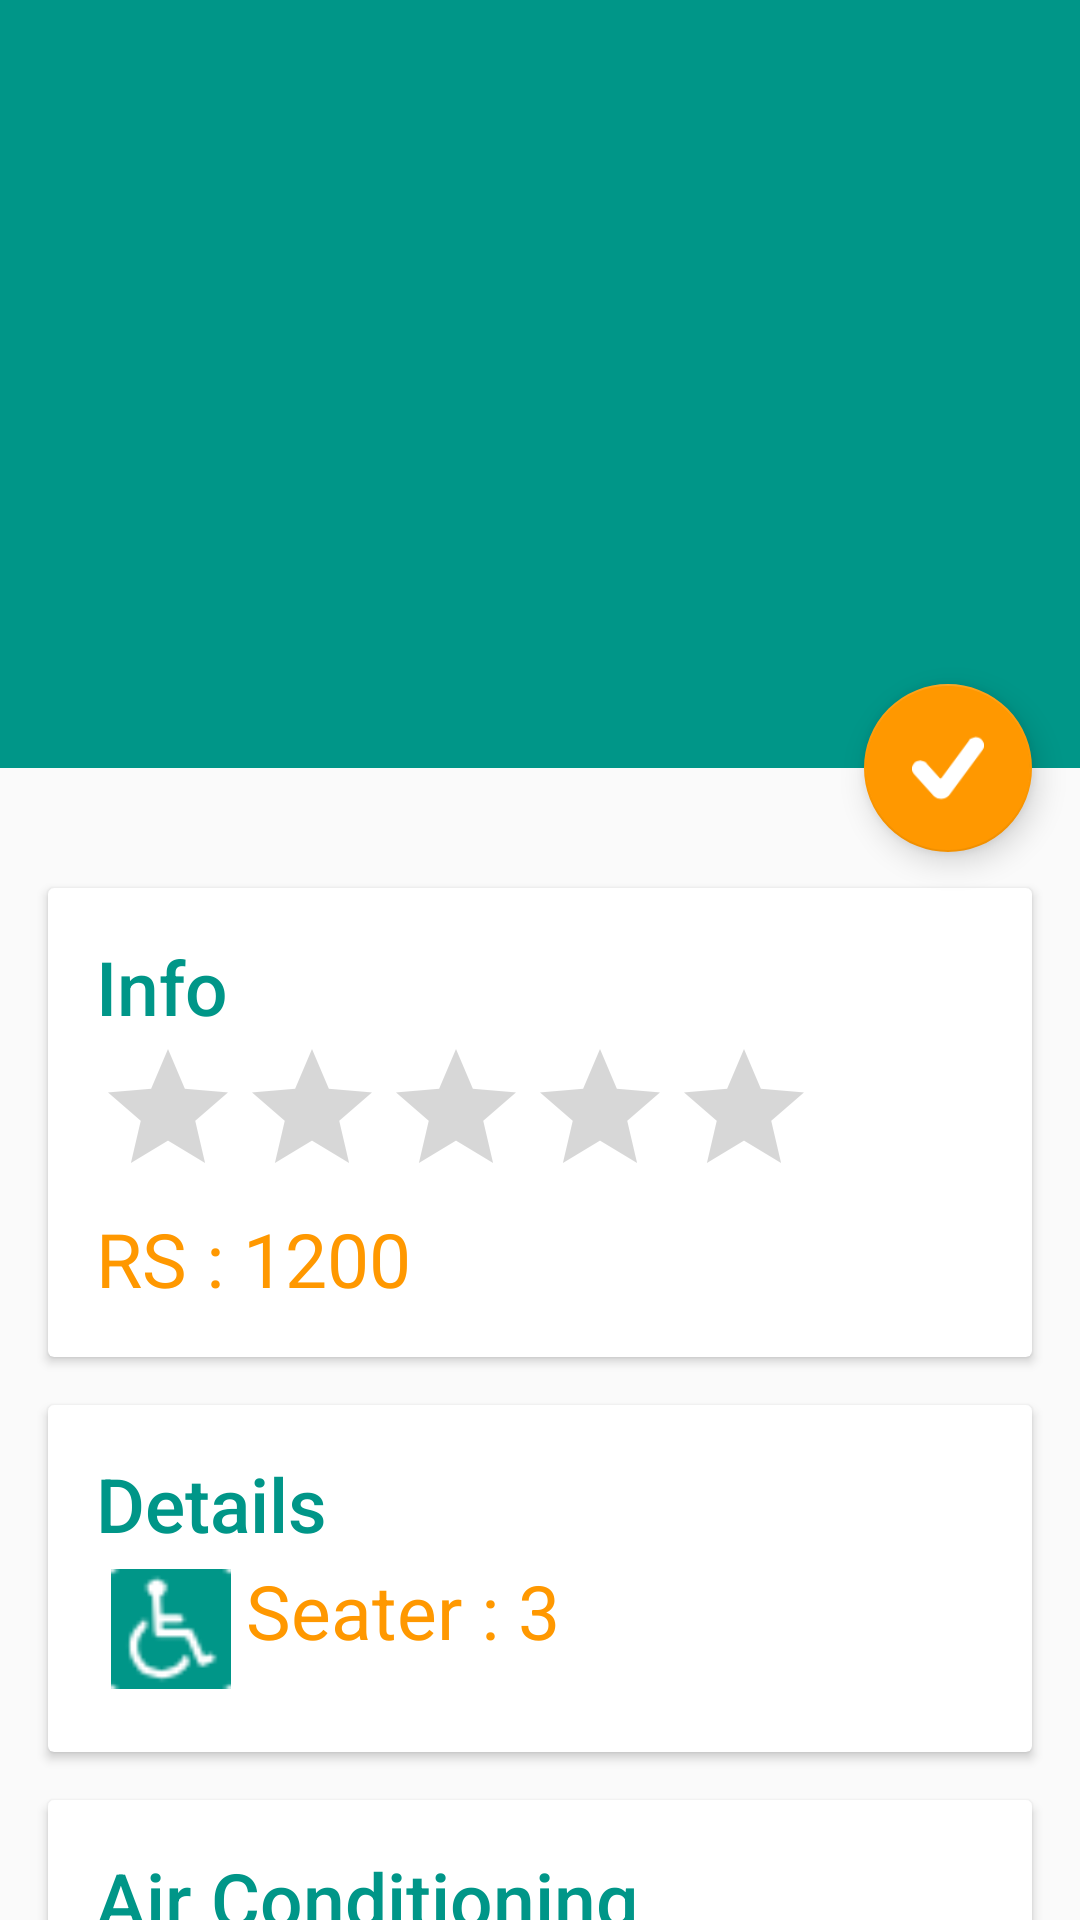

Named icons in this screenshot (1080px×1920px) and their centers, point (x, y):
chair: point (171, 1629)
tick: point (948, 768)
